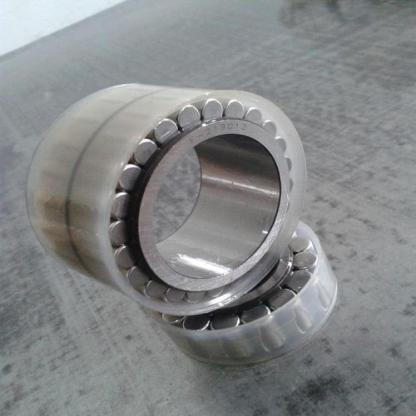FOD: (30, 80, 309, 322), (155, 222, 342, 372)
